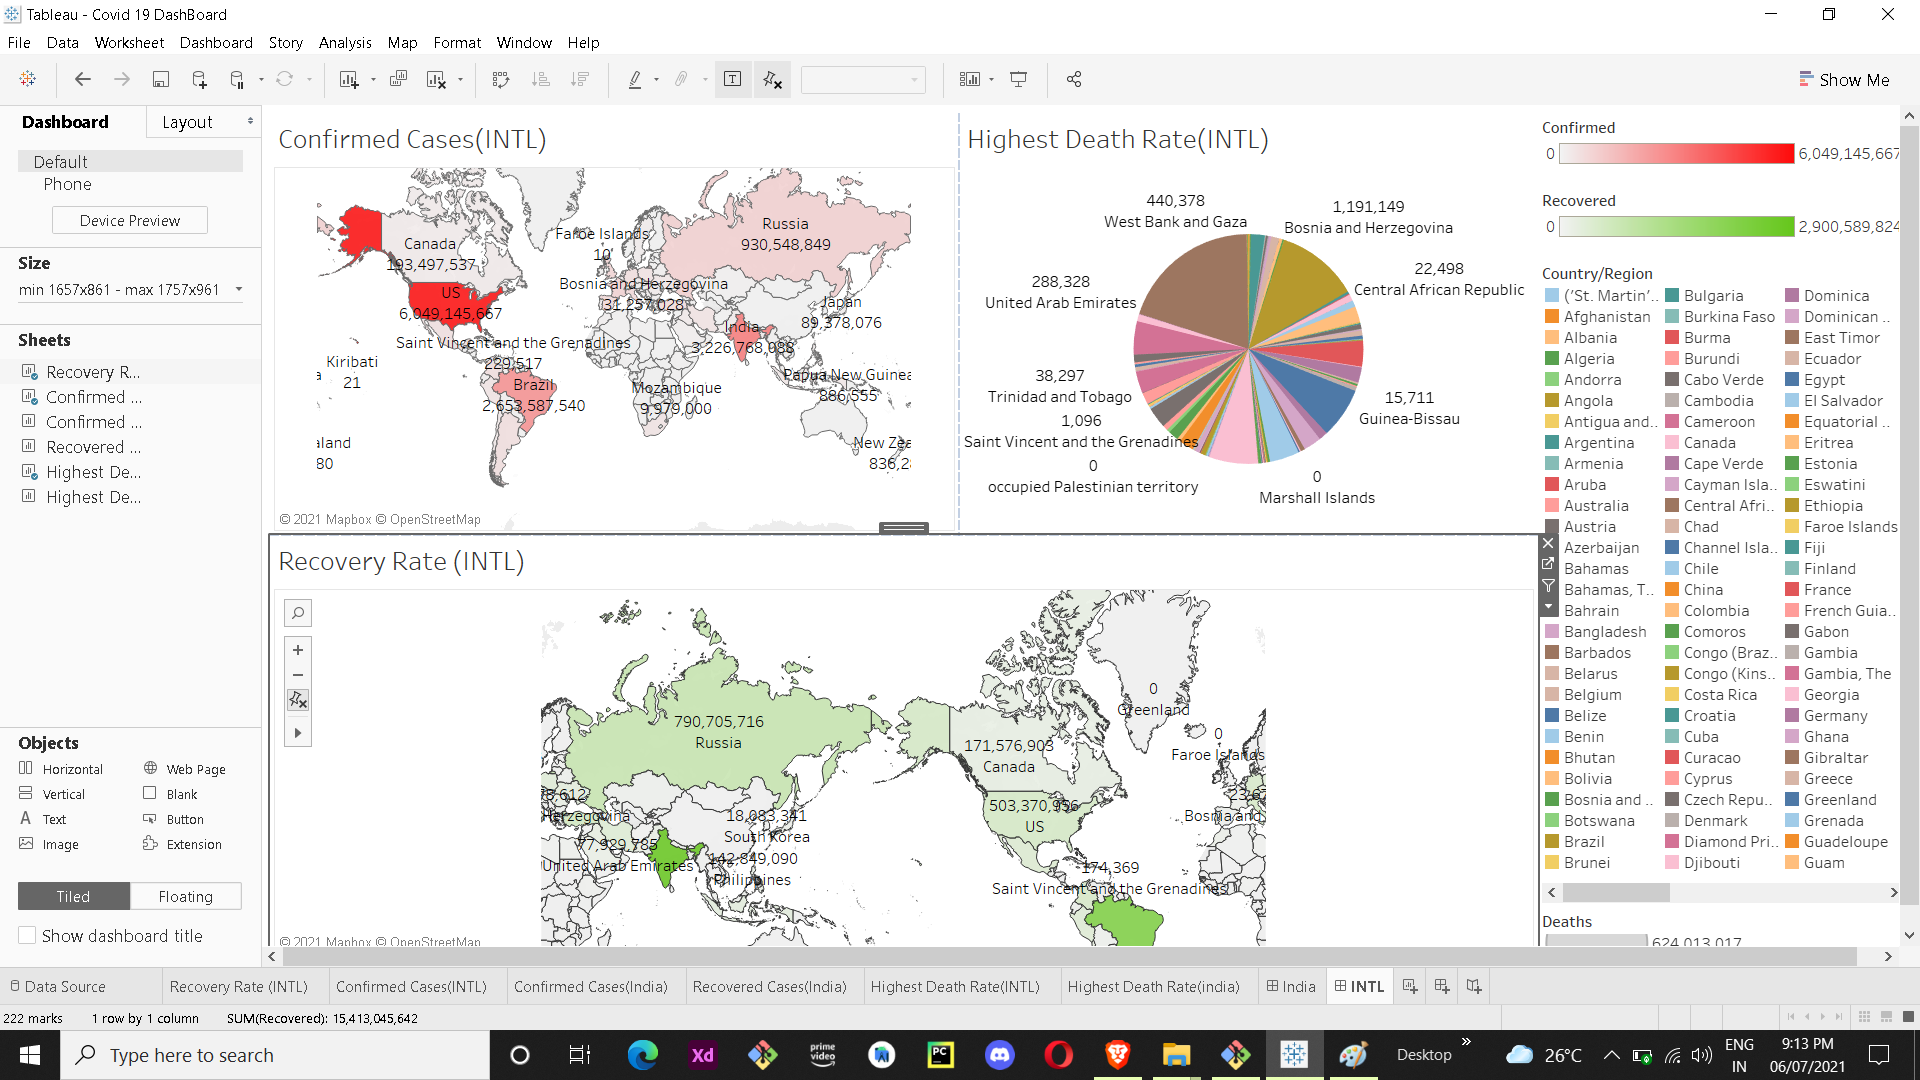

The page's visual inventory and layout, read from the dashboard file:
{"tool":"tableau","page":{"name":"INTL","canvas":[1000,1000],"units":"permille","ordinal":0},"visuals":[{"type":"worksheet","title":"Confirmed Cases(INTL)","mark":"Automatic","box":[4.8,9.3,415.8,490.1]},{"type":"worksheet","title":"Highest Death Rate(INTL)","mark":"Pie","box":[420.6,9.3,349.4,490.1]},{"type":"legend","title":"Confirmed Cases(INTL)","param":"[federated.0p9qjpx1c1td9s16lv8h01l3g3mf].[sum:Confirmed:qk]","box":[770.1,9.3,225.1,84.8]},{"type":"legend","title":"Recovery Rate (INTL)","param":"[federated.0p9qjpx1c1td9s16lv8h01l3g3mf].[sum:Recovered:qk]","box":[770.1,94.1,225.1,84.8]},{"type":"legend","title":"Highest Death Rate(INTL)","param":"[federated.0p9qjpx1c1td9s16lv8h01l3g3mf].[none:Country/Region:nk]","box":[770.1,178.8,225.1,752.6]},{"type":"worksheet","title":"Recovery Rate (INTL)","mark":"Automatic","box":[4.8,499.4,765.2,491.3]},{"type":"legend","title":"Highest Death Rate(INTL)","param":"[federated.0p9qjpx1c1td9s16lv8h01l3g3mf].[sum:Deaths:qk]","box":[770.1,931.5,225.1,59.2]}]}

Visuals, with their boxes on the dashboard's canvas, which has no fixed pixel size, in thousandths of its width and height (x1, y1, x2, y2). These are canvas units, not pixel positions in the 1920x1080 screenshot, which may show the page scaled, cropped or inside an application window:
"Confirmed Cases(INTL)" worksheet: crop(5, 9, 421, 499)
"Highest Death Rate(INTL)" worksheet (Pie marks): crop(421, 9, 770, 499)
"Confirmed Cases(INTL)" legend: crop(770, 9, 995, 94)
"Recovery Rate (INTL)" legend: crop(770, 94, 995, 179)
"Highest Death Rate(INTL)" legend: crop(770, 179, 995, 931)
"Recovery Rate (INTL)" worksheet: crop(5, 499, 770, 991)
"Highest Death Rate(INTL)" legend: crop(770, 932, 995, 991)
